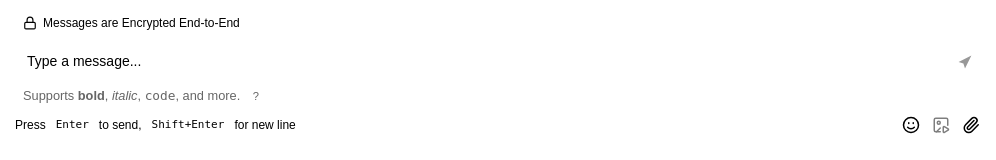
MessageInput › shows character counter when content is near max length
// Type 9 characters (90% of 10 — above 75% visible, below 95% warn)
Type "123456789" into the text box at (484, 62), box [27,45,941,79]
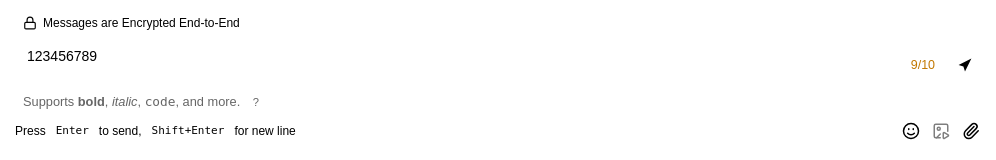
Expected: the text "9/10" is shown, [911,58,935,72]
